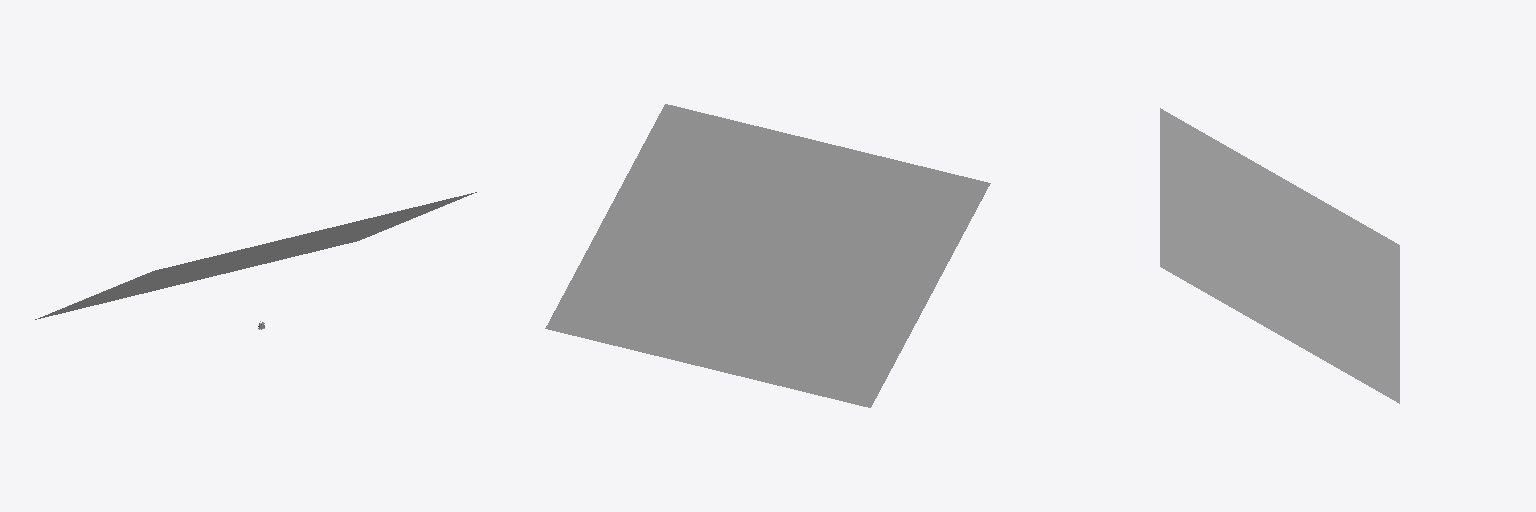
The model's file is clock3.obj.
3 renders of one model, left to right at view 1: azimuth 30°, elevation 25°; view 2: azimuth 150°, elevation 25°; view 3: azimuth 270°, elevation 25°, orthographic.
Parts seen in each view (by area): view 1: Fläche.002; view 2: Fläche.002; view 3: Fläche.002.
Part boxes in pixels (bbox=[...]): Fläche.002: bbox=[35, 192, 476, 319]; Fläche.002: bbox=[545, 104, 990, 407]; Fläche.002: bbox=[1160, 108, 1399, 403].
Size of the model in its own units: 104 by 41.86 by 66.33.